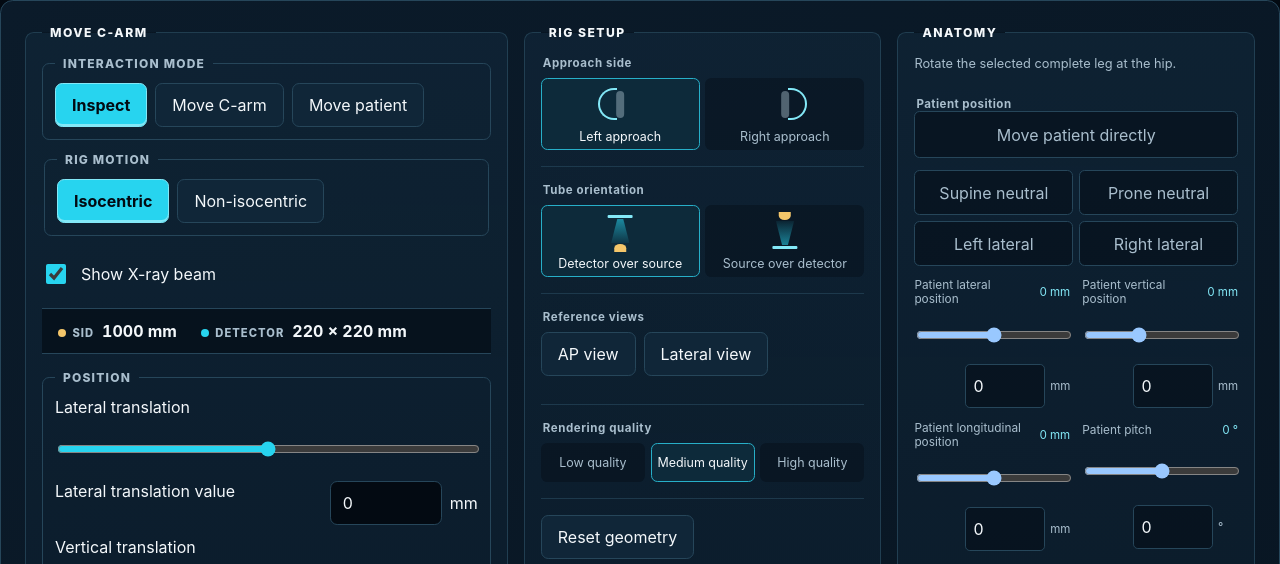
Test: CArmControls › preserves physical and display state across presets and resets them independently
The width and height of the screenshot is (1280, 564).
Click the radio button labelled "Right approach": (785, 114) [705,78,864,150]
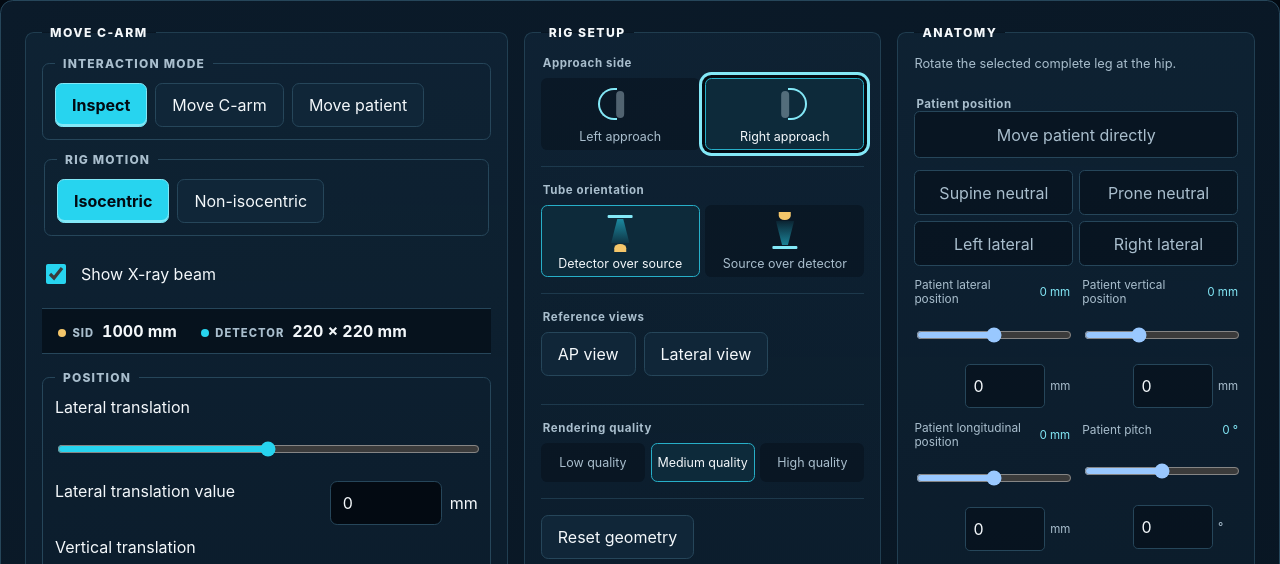
Click the radio button labelled "Source over detector": (785, 241) [705,205,864,277]
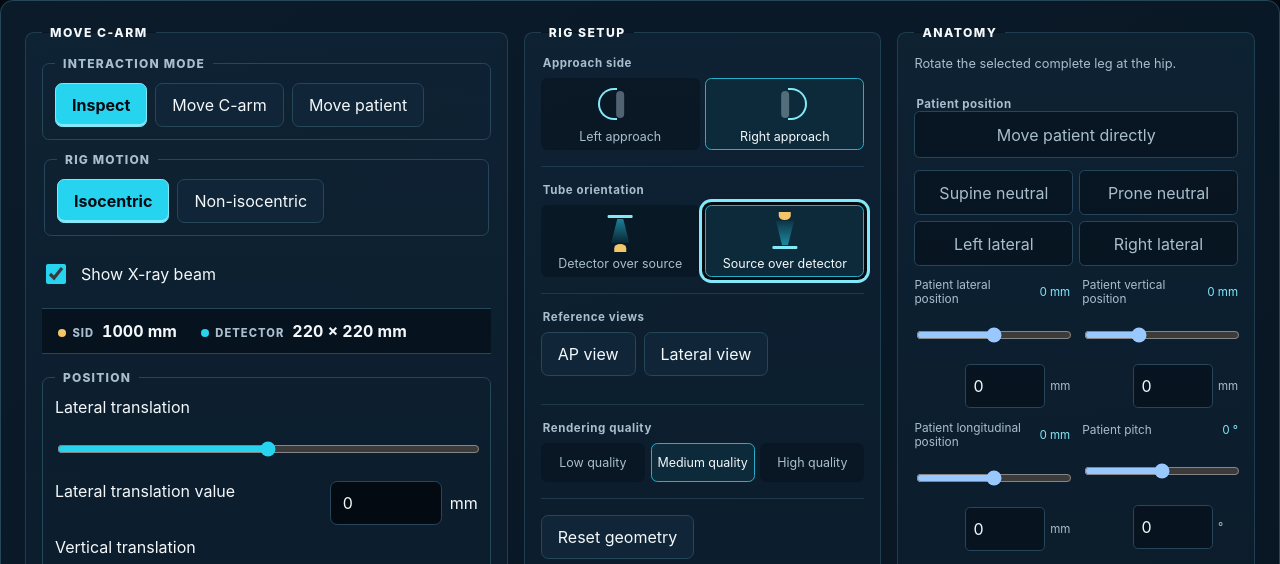
Click the button "AP view": (588, 354) [541,332,636,376]
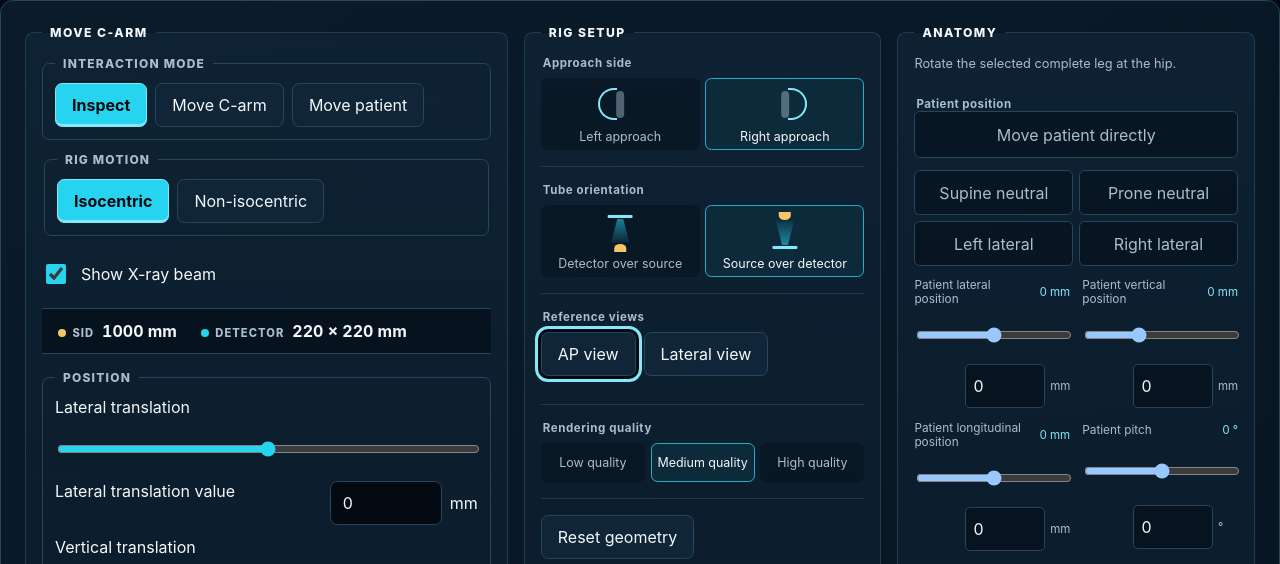
Click the button "Lateral view": (706, 354) [644,332,768,376]
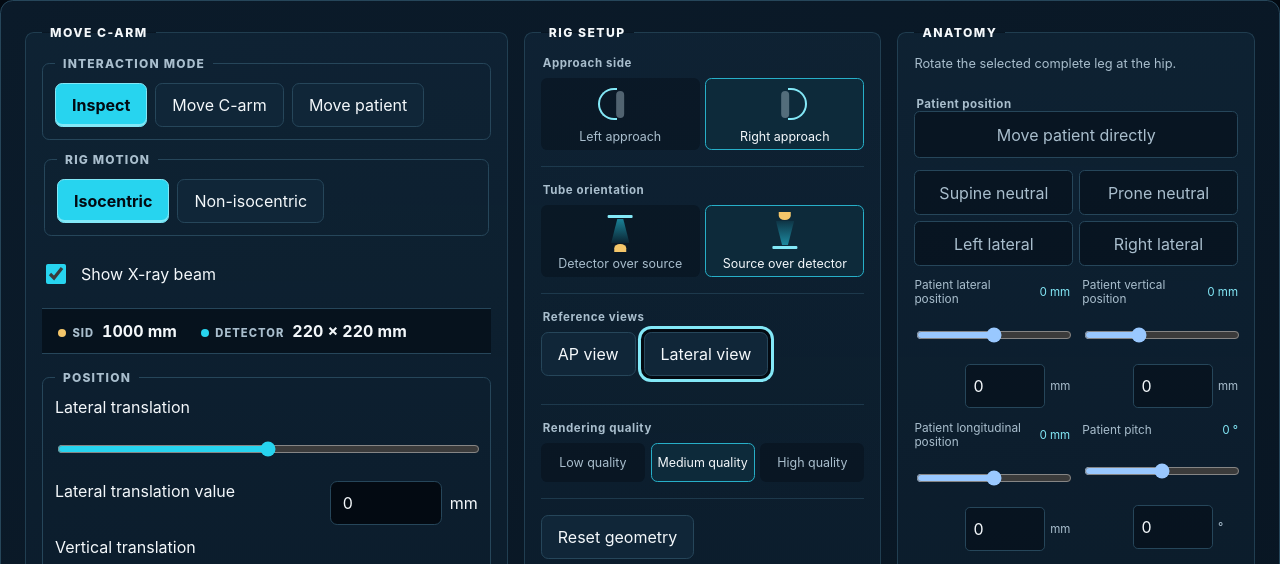
Click the button "Reset geometry": (618, 537) [541,515,694,559]
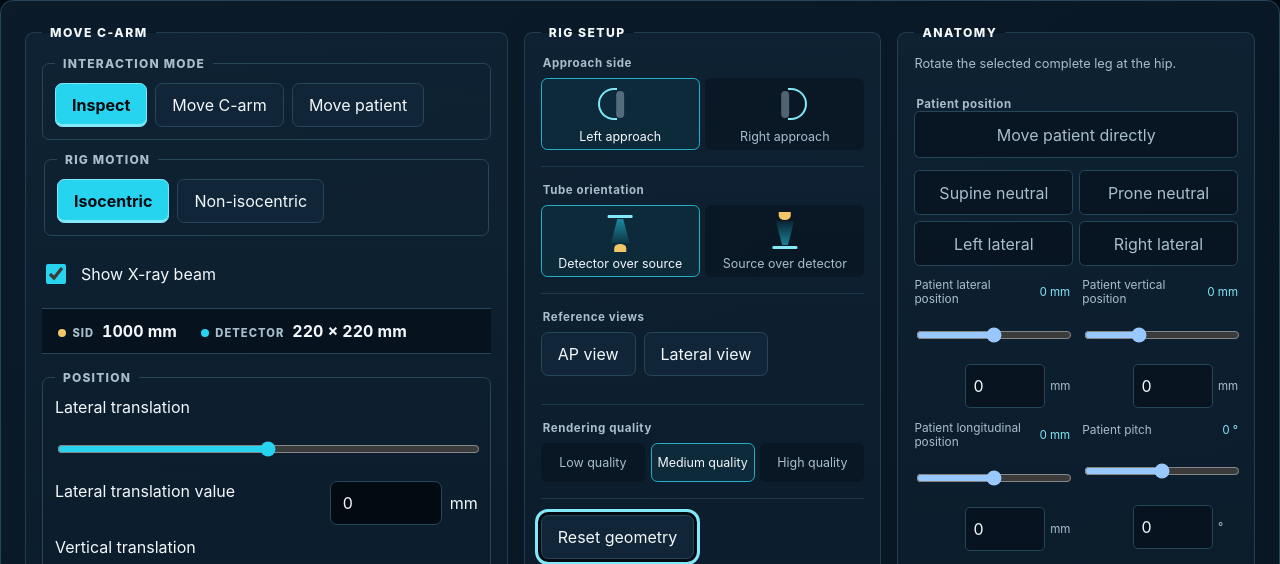
Check: the radio button labelled "Left approach" is checked, box [541,78,700,150]
Check: the radio button labelled "Detector over source" is checked, box [541,205,700,277]
